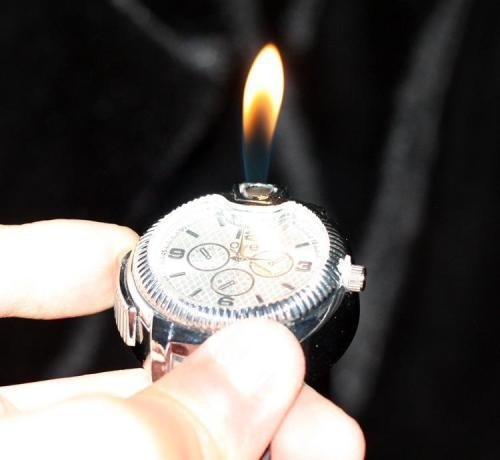fire: (241, 38, 286, 180)
